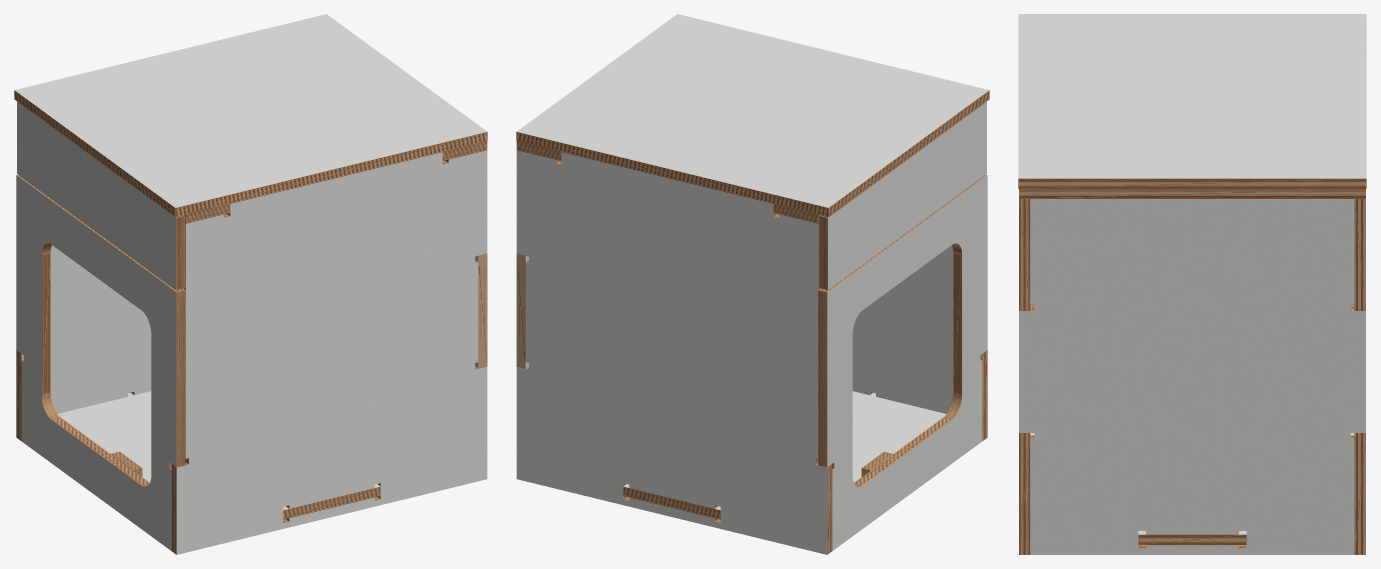
The picture shows the model from 3 angles, left to right: view 1: azimuth 30°, elevation 25°; view 2: azimuth 150°, elevation 25°; view 3: azimuth 270°, elevation 25°; orthographic projection. The views are drawn at different scales.
Visible parts, largest first — view 1: End_RH, Bench_Top, Front, End_LH, DF_1, Bottom, Back; view 2: End_LH, Bench_Top, Front, End_RH, DF_1, Bottom, Back; view 3: Back, Bench_Top, CR_Back, End_LH, End_RH, Bottom.
Part boxes in pixels (x1,y1,x2,y2): End_RH: [171, 150, 487, 554]; Bench_Top: [14, 14, 487, 217]; Front: [16, 175, 185, 550]; End_LH: [16, 245, 151, 440]; DF_1: [17, 101, 184, 289]; Bottom: [57, 391, 380, 519]; Back: [475, 254, 487, 368]; End_LH: [516, 150, 832, 554]; Bench_Top: [516, 14, 989, 217]; Front: [818, 175, 987, 550]; End_RH: [852, 245, 987, 440]; DF_1: [819, 101, 986, 289]; Bottom: [623, 391, 946, 519]; Back: [516, 254, 528, 368]; Back: [1019, 199, 1365, 554]; Bench_Top: [1018, 14, 1366, 188]; CR_Back: [1019, 189, 1365, 198]; End_LH: [1354, 199, 1365, 554]; End_RH: [1019, 199, 1030, 554]; Bottom: [1030, 433, 1354, 544].
Bounding box in the file's own units: 0.56 × 0.596 × 0.5.
5 materials, 2 textured.
